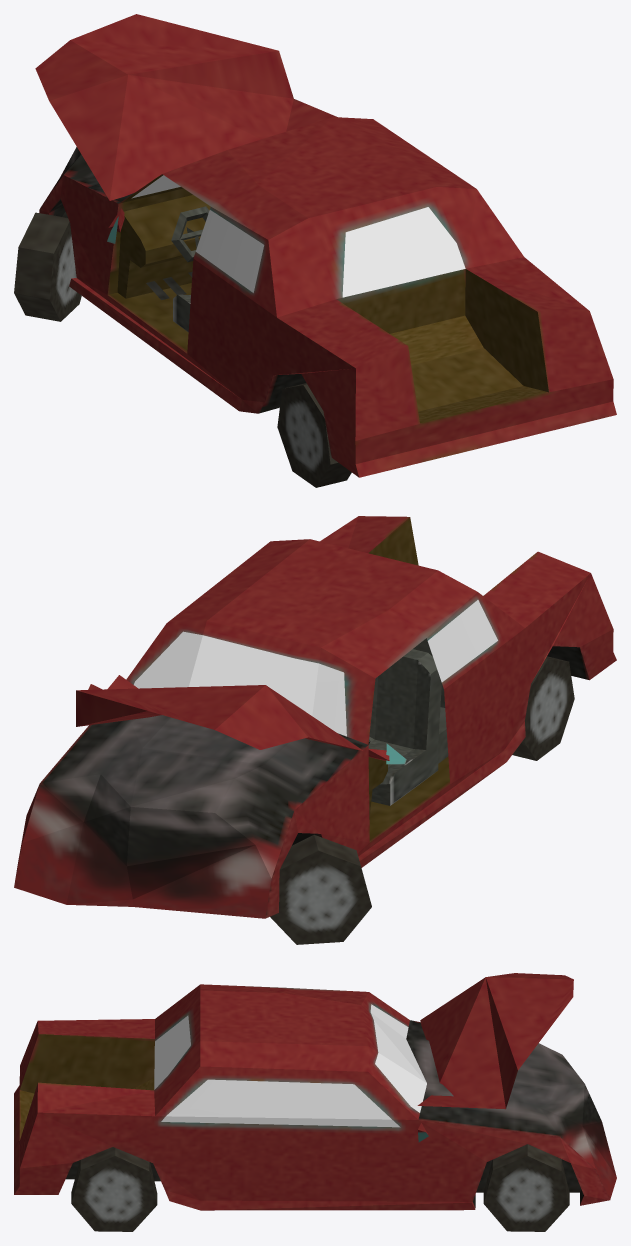
The model's file is broken_car_uved_good.fbx.
3 renders of one model, top to bottom at view 1: azimuth 30°, elevation 25°; view 2: azimuth 150°, elevation 25°; view 3: azimuth 270°, elevation 25°, orthographic. The views are drawn at different scales.
Parts seen in each view (by area): view 1: Broken car; view 2: Broken car; view 3: Broken car.
Part boxes in pixels (x1,y1,x2,y2): Broken car: (14, 14, 616, 487); Broken car: (14, 516, 616, 944); Broken car: (14, 973, 616, 1231).
Size of the model in its own units: 1.77 by 1.21 by 3.49.
